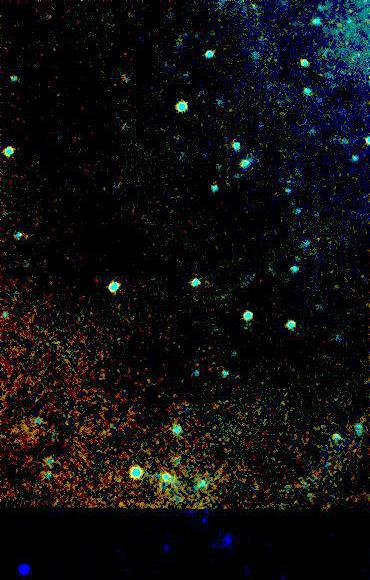star: (334, 0, 364, 29)
